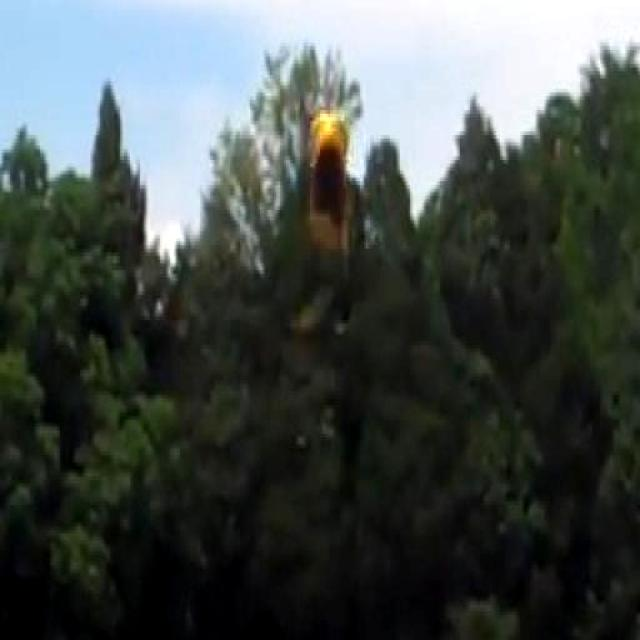drone: (298, 121, 366, 325)
